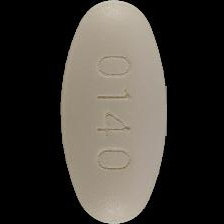64376-131: (0, 0, 224, 224)
